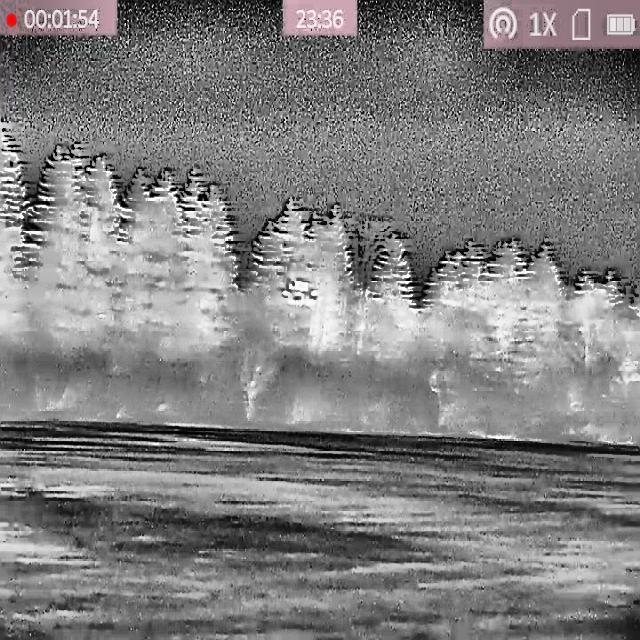drone: (282, 276, 321, 308)
